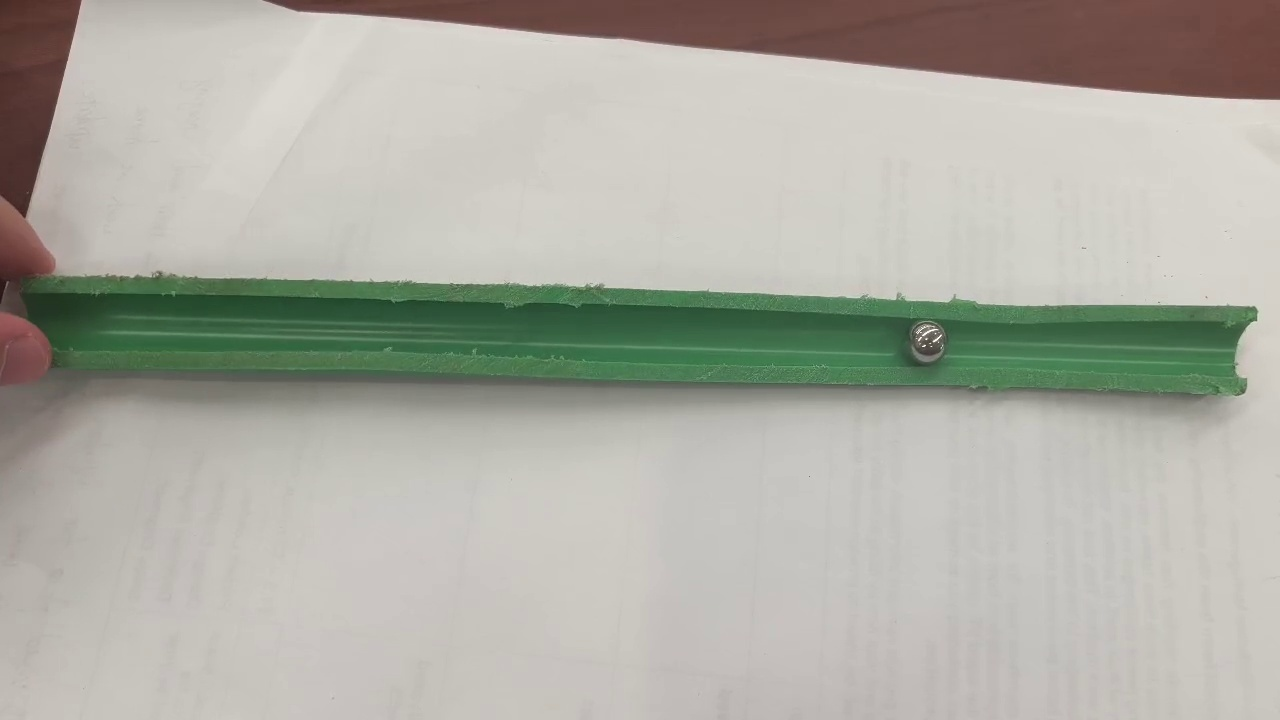ball: (910, 323, 946, 364)
